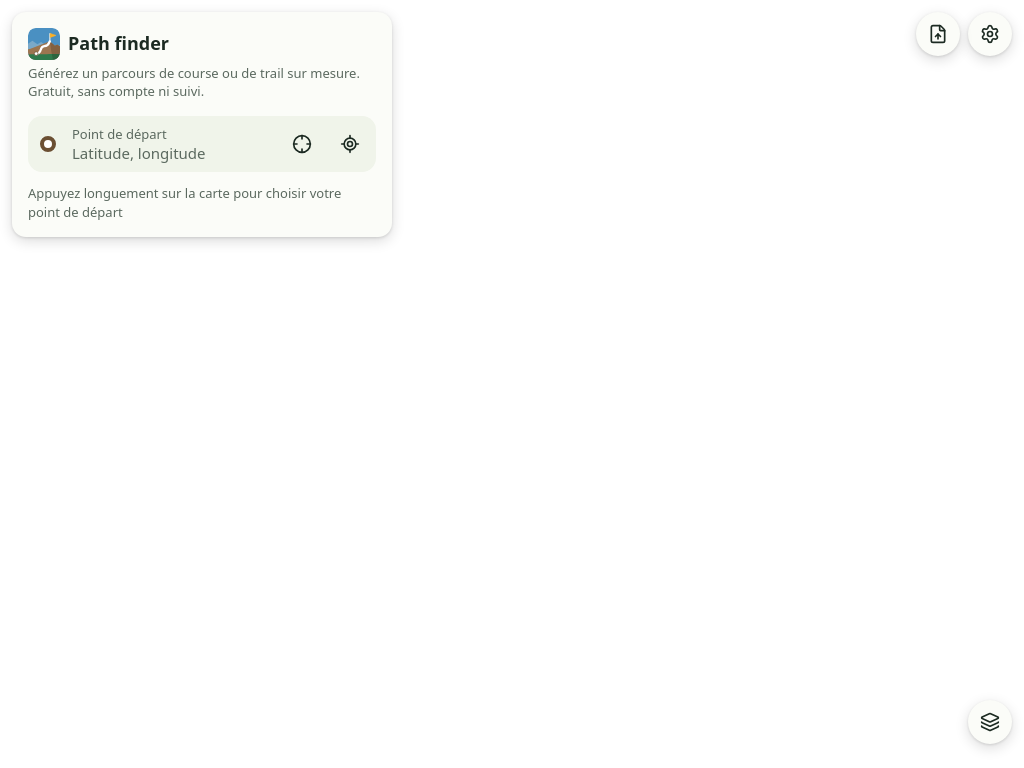
Test: CriteriaView › on desktops › shows the start point coordinates in French
Click the button with test id "criteria-start-pick": click(302, 144) [280,122,324,166]
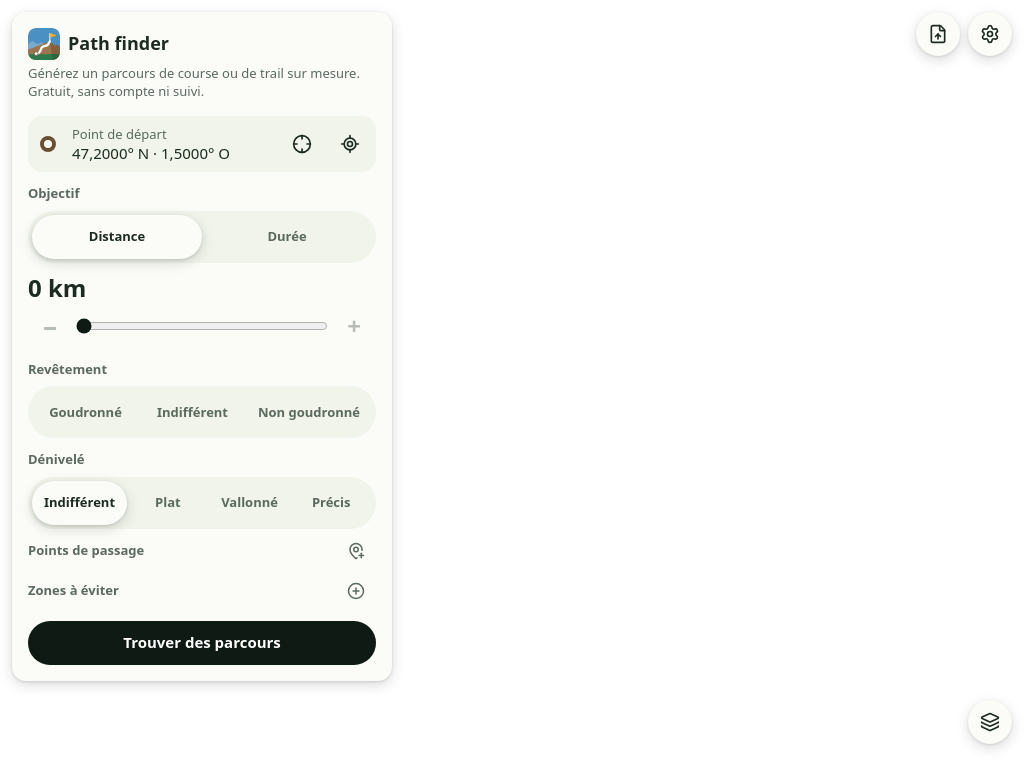
Check: the field with test id "criteria-start" holds "47,2000° N · 1,5000° O", box [72,143,264,164]
